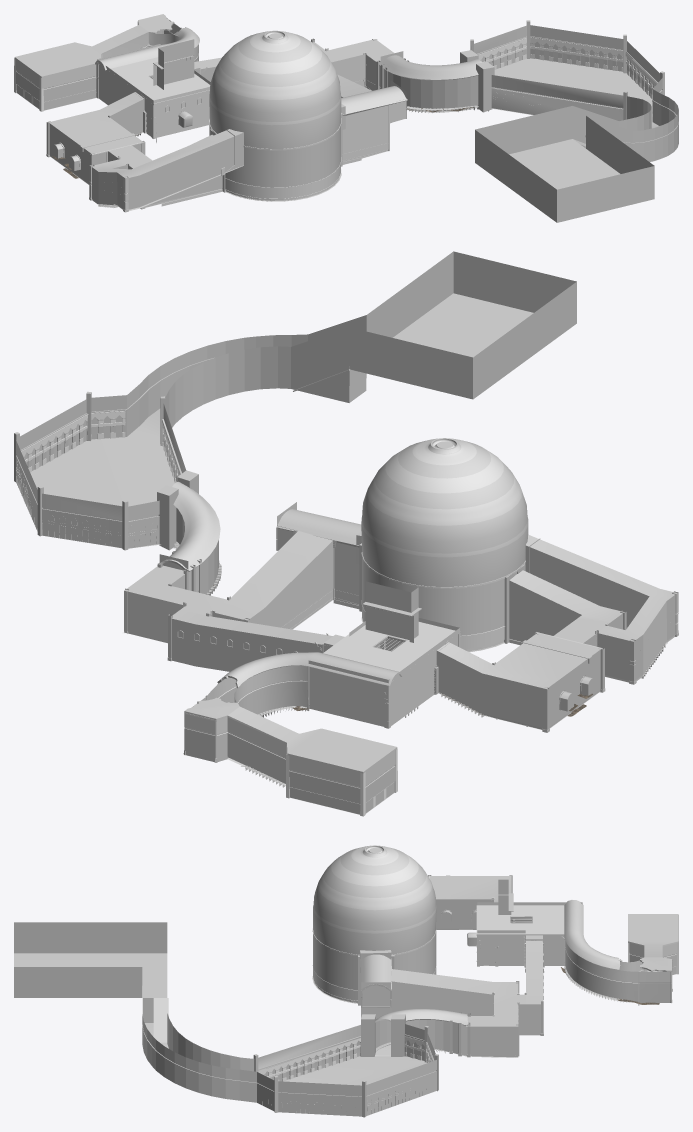
Rendered from TutorialLevel Backup.fbx.
3 renders of one model, top to bottom at view 1: azimuth 30°, elevation 25°; view 2: azimuth 150°, elevation 25°; view 3: azimuth 270°, elevation 25°, orthographic. The views are drawn at different scales.
Visible parts, largest first — view 1: Walls, RoofTop3, Walls.073, Walls.086, Walls.127, Walls.074, Floors.018, Plane.010, Floors.005, Walls.079, Yes.002, RoofTop (+13 smaller); view 2: Walls, RoofTop3, Walls.074, Walls.073, Floors.018, Walls.127, Walls.006, Plane.010, Floors.036, Walls.087, RoofTop2, Walls.086 (+11 smaller); view 3: Walls, RoofTop3, Walls.127, Walls.074, Walls.086, Floors.005, Walls.087, Floors.018, Plane.006, Walls.079, Plane.010, Floors.036 (+12 smaller).
Part boxes in pixels (bbox=[...]): Walls: bbox=[470, 25, 678, 222]; RoofTop3: bbox=[209, 30, 341, 148]; Walls.073: bbox=[92, 132, 243, 210]; Walls.086: bbox=[209, 124, 341, 198]; Walls.127: bbox=[331, 54, 406, 161]; Walls.074: bbox=[16, 17, 198, 110]; Floors.018: bbox=[491, 58, 658, 128]; Plane.010: bbox=[97, 44, 210, 137]; Floors.005: bbox=[509, 139, 620, 189]; Walls.079: bbox=[14, 14, 174, 77]; Yes.002: bbox=[478, 37, 657, 120]; RoofTop: bbox=[49, 92, 143, 154]; Walls: bbox=[16, 251, 576, 548]; RoofTop3: bbox=[361, 438, 528, 586]; Walls.074: bbox=[184, 665, 395, 814]; Walls.073: bbox=[509, 545, 675, 682]; Floors.018: bbox=[30, 370, 366, 548]; Walls.127: bbox=[124, 502, 359, 643]; Walls.006: bbox=[437, 649, 601, 729]; Plane.010: bbox=[308, 618, 459, 726]; Floors.036: bbox=[171, 609, 332, 671]; Walls.087: bbox=[124, 531, 332, 620]; RoofTop2: bbox=[509, 534, 676, 643]; Walls.086: bbox=[361, 557, 525, 649]; Walls: bbox=[14, 922, 436, 1116]; RoofTop3: bbox=[313, 845, 436, 954]; Walls.127: bbox=[361, 981, 540, 1057]; Walls.074: bbox=[565, 941, 677, 1002]; Walls.086: bbox=[312, 932, 436, 1000]; Floors.005: bbox=[14, 953, 167, 997]; Walls.087: bbox=[391, 969, 525, 1026]; Floors.018: bbox=[143, 998, 426, 1085]; Plane.006: bbox=[476, 905, 564, 935]; Walls.079: bbox=[628, 914, 678, 971]; Plane.010: bbox=[477, 902, 582, 965]; Floors.036: bbox=[526, 936, 564, 1004].
Size of the model in its own units: 10825 by 38065 by 45645.
